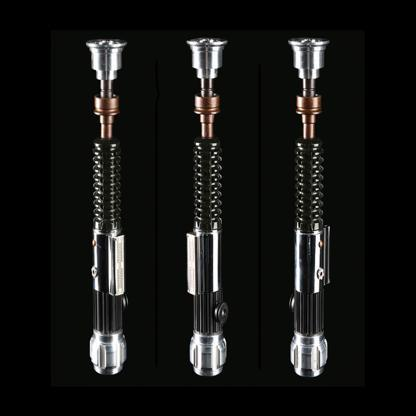lightsaber: (84, 40, 131, 376), (286, 37, 330, 378), (187, 38, 228, 376)
